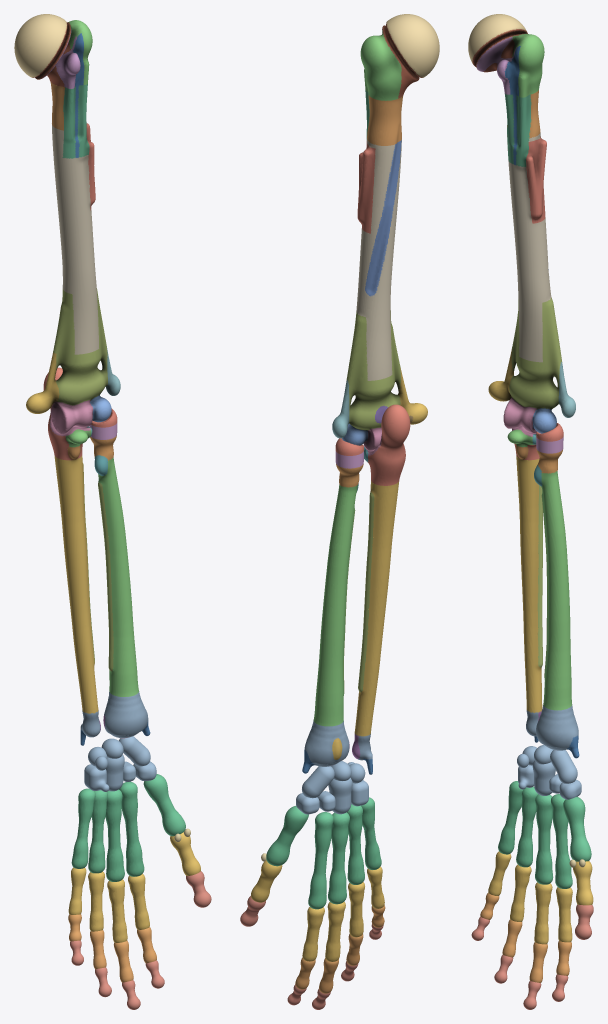
The model's file is brazo-coloreado.glb.
3 renders of one model, left to right at view 1: azimuth 30°, elevation 25°; view 2: azimuth 210°, elevation 25°; view 3: azimuth 330°, elevation 25°, orthographic. The views are drawn at different scales.
Parts seen in each view (by area): view 1: humerus_L_shaft, ulna_L_shaft, radius_L_shaft, humerus_L_supracondylar_ridges, humerus_L_head, radius_L_distal_end, humerus_L_tubercle_crests, metacarpal_2_index_L, metacarpal_3_middle_L, metacarpal_1_thumb_L, metacarpal_4_ring_L, metacarpal_5_little_L (+21 smaller); view 2: radius_L_shaft, humerus_L_shaft, ulna_L_shaft, humerus_L_supracondylar_ridges, ulna_L_olecranon, humerus_L_head, humerus_L_greater_tubercle, humerus_L_radial_groove, humerus_L_surgical_neck, metacarpal_2_index_L, metacarpal_3_middle_L, radius_L_distal_end (+15 smaller); view 3: radius_L_shaft, humerus_L_shaft, ulna_L_shaft, humerus_L_supracondylar_ridges, humerus_L_greater_tubercle, radius_L_distal_end, humerus_L_tubercle_crests, humerus_L_deltoid_tuberosity, metacarpal_3_middle_L, metacarpal_2_index_L, metacarpal_1_thumb_L, humerus_L_head (+28 smaller).
Part boxes in pixels (x1,y1,x2,y2): humerus_L_shaft: (52, 125, 98, 354); ulna_L_shaft: (54, 455, 98, 713); radius_L_shaft: (98, 457, 138, 696); humerus_L_supracondylar_ridges: (53, 288, 107, 405); humerus_L_head: (14, 14, 66, 77); radius_L_distal_end: (104, 691, 148, 737); humerus_L_tubercle_crests: (62, 84, 89, 158); metacarpal_2_index_L: (119, 781, 144, 876); metacarpal_3_middle_L: (105, 789, 124, 881); metacarpal_1_thumb_L: (143, 774, 185, 836); metacarpal_4_ring_L: (88, 790, 107, 873); metacarpal_5_little_L: (71, 788, 95, 868); radius_L_shaft: (313, 485, 357, 726); humerus_L_shaft: (356, 138, 401, 380); ulna_L_shaft: (354, 481, 399, 736); humerus_L_supracondylar_ridges: (346, 310, 400, 430); ulna_L_olecranon: (368, 404, 410, 485); humerus_L_head: (386, 14, 439, 77); humerus_L_greater_tubercle: (360, 30, 401, 100); humerus_L_radial_groove: (365, 140, 401, 296); humerus_L_surgical_neck: (367, 95, 403, 145); metacarpal_2_index_L: (308, 812, 333, 909); metacarpal_3_middle_L: (328, 812, 349, 904); radius_L_distal_end: (304, 720, 349, 766); radius_L_shaft: (541, 471, 571, 710); humerus_L_shaft: (507, 132, 551, 362); ulna_L_shaft: (516, 456, 542, 712); humerus_L_supracondylar_ridges: (509, 297, 561, 409); humerus_L_greater_tubercle: (512, 33, 544, 97); radius_L_distal_end: (536, 704, 578, 750); humerus_L_tubercle_crests: (505, 94, 531, 166); humerus_L_deltoid_tuberosity: (526, 136, 546, 223); metacarpal_3_middle_L: (535, 794, 553, 884); metacarpal_2_index_L: (551, 794, 572, 888); metacarpal_1_thumb_L: (563, 797, 591, 861); humerus_L_head: (468, 14, 526, 63).
Bounding box in the file's own units: 0.123 × 0.7378 × 0.0804.
